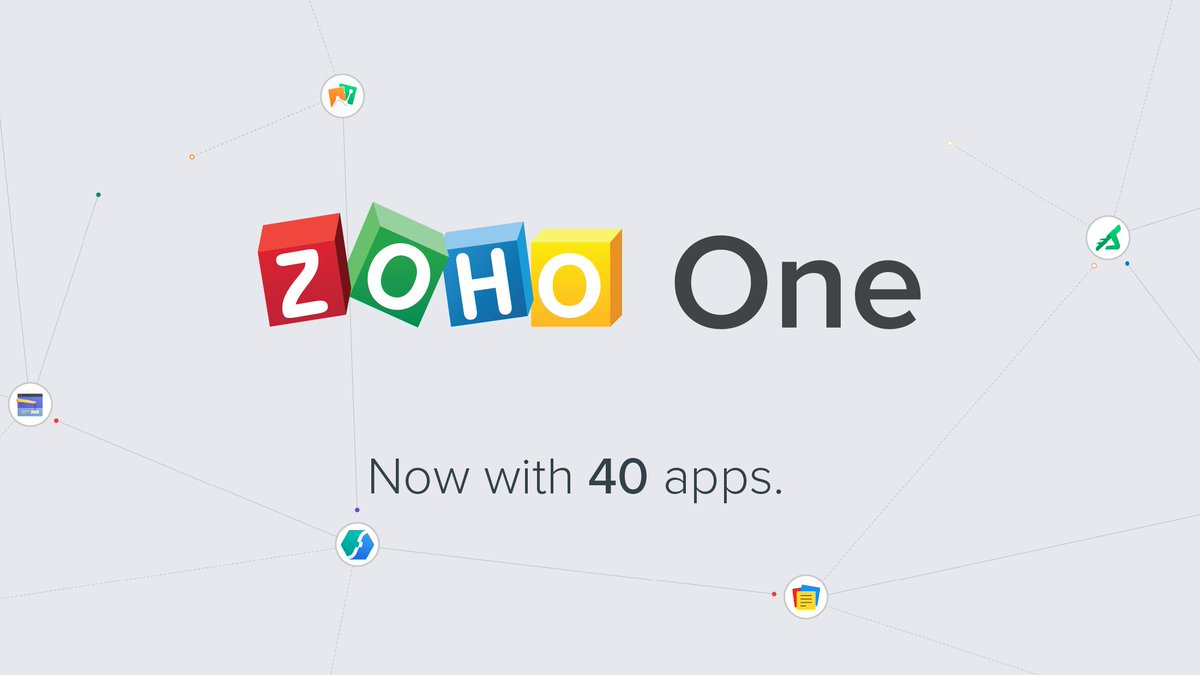zoho: (258, 206, 626, 335)
